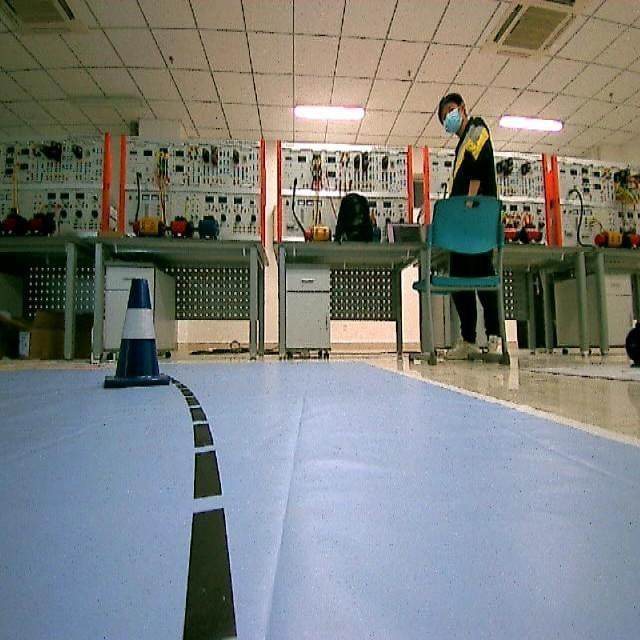obstacle: (92, 266, 176, 396)
